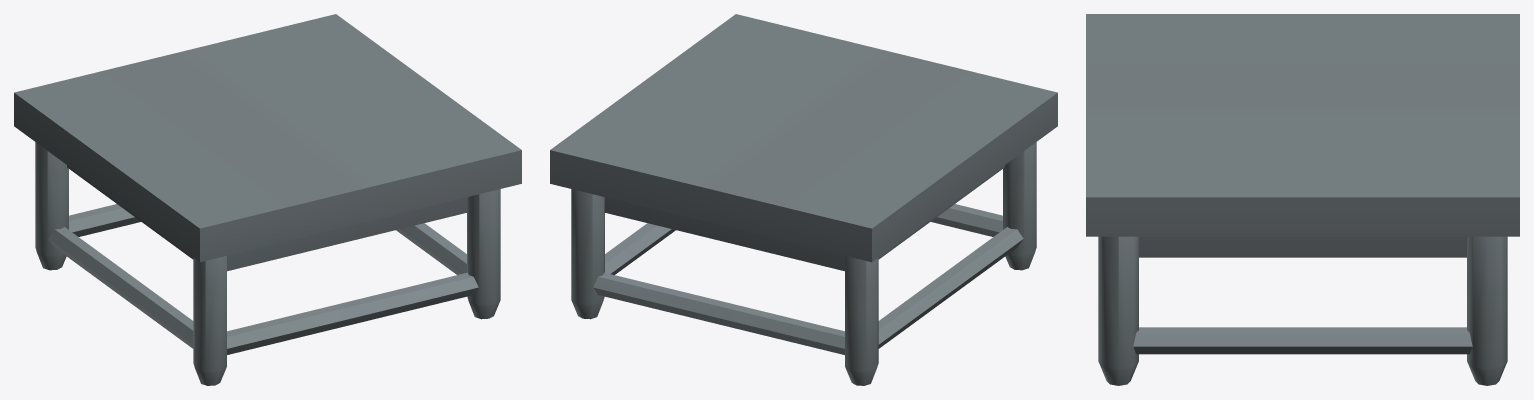
The model's file is kkr.kitchentable_a.glb.
3 views of the same model, side by side, from view 1: azimuth 30°, elevation 25°; view 2: azimuth 150°, elevation 25°; view 3: azimuth 270°, elevation 25° (orthographic). The views are drawn at different scales.
Visible parts, largest first — view 1: kitchentable_A; view 2: kitchentable_A; view 3: kitchentable_A.
Boxes of the visible parts, box(x1,y1,x2,y2) form: kitchentable_A: box(14, 14, 521, 385); kitchentable_A: box(550, 14, 1057, 385); kitchentable_A: box(1086, 14, 1519, 385).
Bounding box in the file's own units: 1.49 × 0.7479 × 1.49.
Materials: 1 (1 with a texture image).
